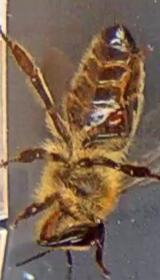varroa_mite: (91, 96, 140, 132)
